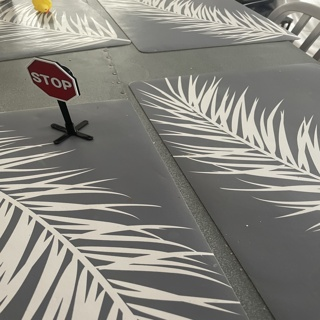sign_stop: (23, 53, 80, 103)
